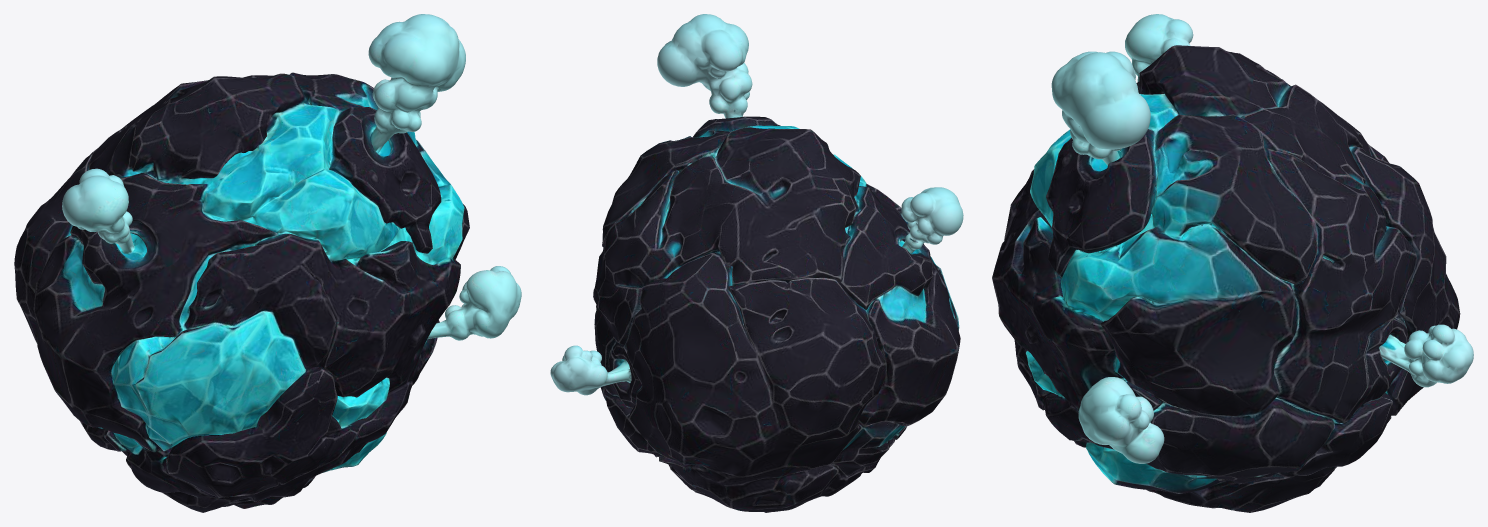
Rendered from comet.glb.
3 renders of one model, left to right at view 1: azimuth 30°, elevation 25°; view 2: azimuth 150°, elevation 25°; view 3: azimuth 270°, elevation 25°, orthographic. The views are drawn at different scales.
Bounding box in the file's own units: 1.75 × 1.9 × 1.61.
Materials: 1 (1 with a texture image).
